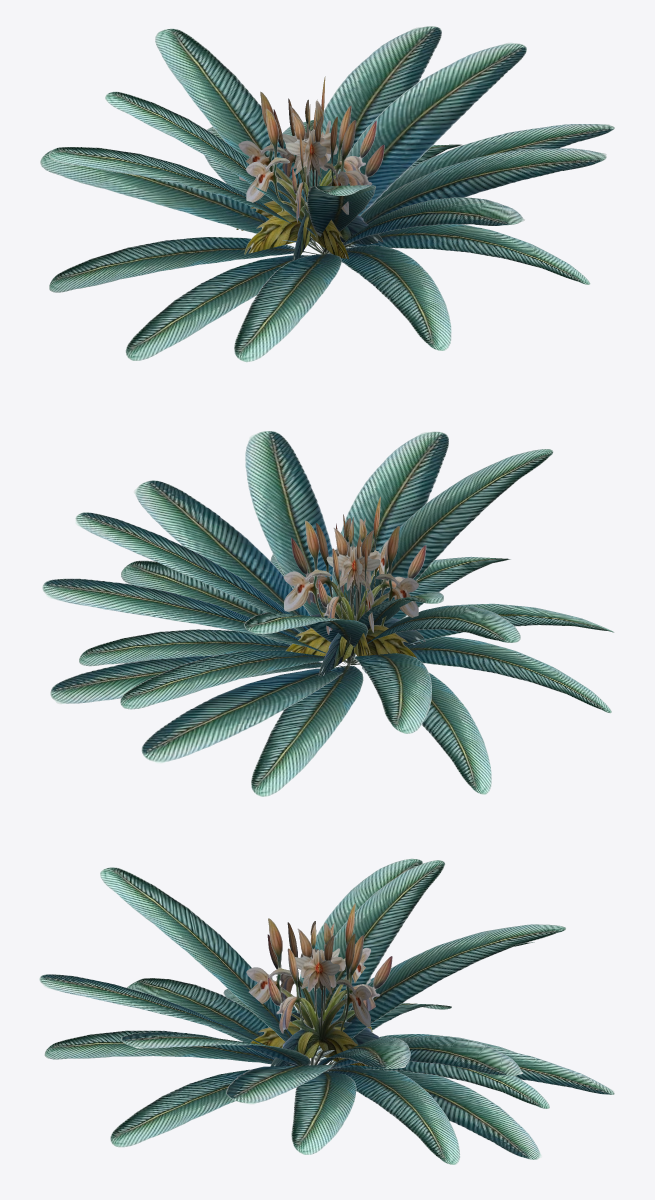
Rendered from Fern 2.fbx.
3 views of the same model, one above another, from view 1: azimuth 30°, elevation 25°; view 2: azimuth 150°, elevation 25°; view 3: azimuth 270°, elevation 25° (orthographic). The views are drawn at different scales.
Visible parts, largest first — view 1: Plant cutout7.026; view 2: Plant cutout7.026; view 3: Plant cutout7.026.
Part boxes in pixels (box(x1,y1,x2,y2)): Plant cutout7.026: box(40, 26, 614, 362); Plant cutout7.026: box(42, 431, 614, 796); Plant cutout7.026: box(39, 858, 614, 1164).
Bounding box in the file's own units: 238 × 87.25 × 224.
